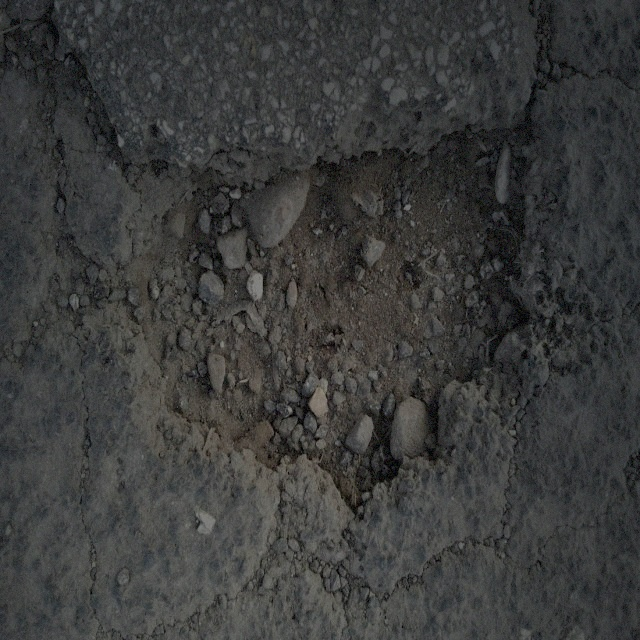pothole: (106, 111, 553, 505)
